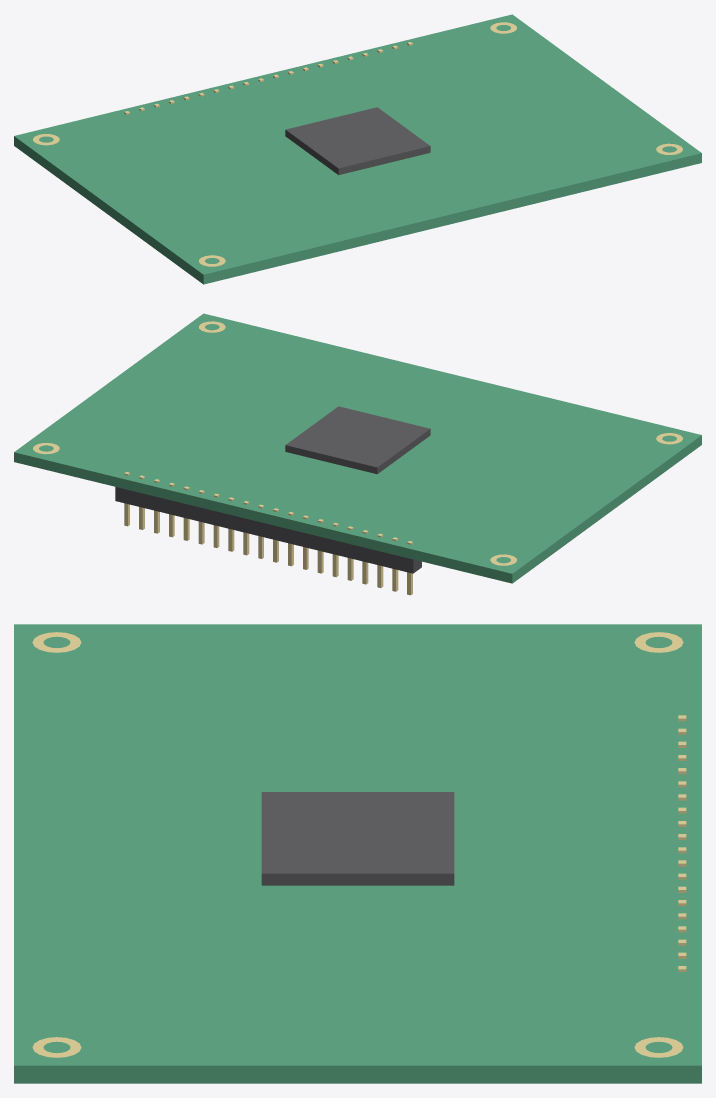
Rendered from rpi-4b-4gb.glb.
3 renders of one model, top to bottom at view 1: azimuth 30°, elevation 25°; view 2: azimuth 150°, elevation 25°; view 3: azimuth 270°, elevation 25°, orthographic. The views are drawn at different scales.
Parts seen in each view (by area): view 1: rpi-4b-4gb-pcb, rpi-4b-4gb-ic, rpi-4b-4gb-mounting-pads, rpi-4b-4gb-pins; view 2: rpi-4b-4gb-pcb, rpi-4b-4gb-ic, rpi-4b-4gb-plastic, rpi-4b-4gb-pins, rpi-4b-4gb-mounting-pads; view 3: rpi-4b-4gb-pcb, rpi-4b-4gb-ic, rpi-4b-4gb-mounting-pads, rpi-4b-4gb-pins.
Boxes of the visible parts, x1=… form: rpi-4b-4gb-pcb: x1=14, y1=14, x2=701, y2=284; rpi-4b-4gb-ic: x1=285, y1=107, x2=430, y2=175; rpi-4b-4gb-mounting-pads: x1=33, y1=22, x2=682, y2=266; rpi-4b-4gb-pins: x1=124, y1=42, x2=412, y2=114; rpi-4b-4gb-pcb: x1=14, y1=313, x2=701, y2=583; rpi-4b-4gb-ic: x1=285, y1=406, x2=430, y2=474; rpi-4b-4gb-plastic: x1=115, y1=487, x2=421, y2=573; rpi-4b-4gb-pins: x1=124, y1=472, x2=412, y2=595; rpi-4b-4gb-mounting-pads: x1=33, y1=321, x2=682, y2=565; rpi-4b-4gb-pcb: x1=14, y1=624, x2=701, y2=1083; rpi-4b-4gb-ic: x1=261, y1=792, x2=454, y2=885; rpi-4b-4gb-mounting-pads: x1=32, y1=632, x2=683, y2=1057; rpi-4b-4gb-pins: x1=678, y1=715, x2=686, y2=971.
Size of the model in its own units: 0.085 by 0.00935 by 0.056.
